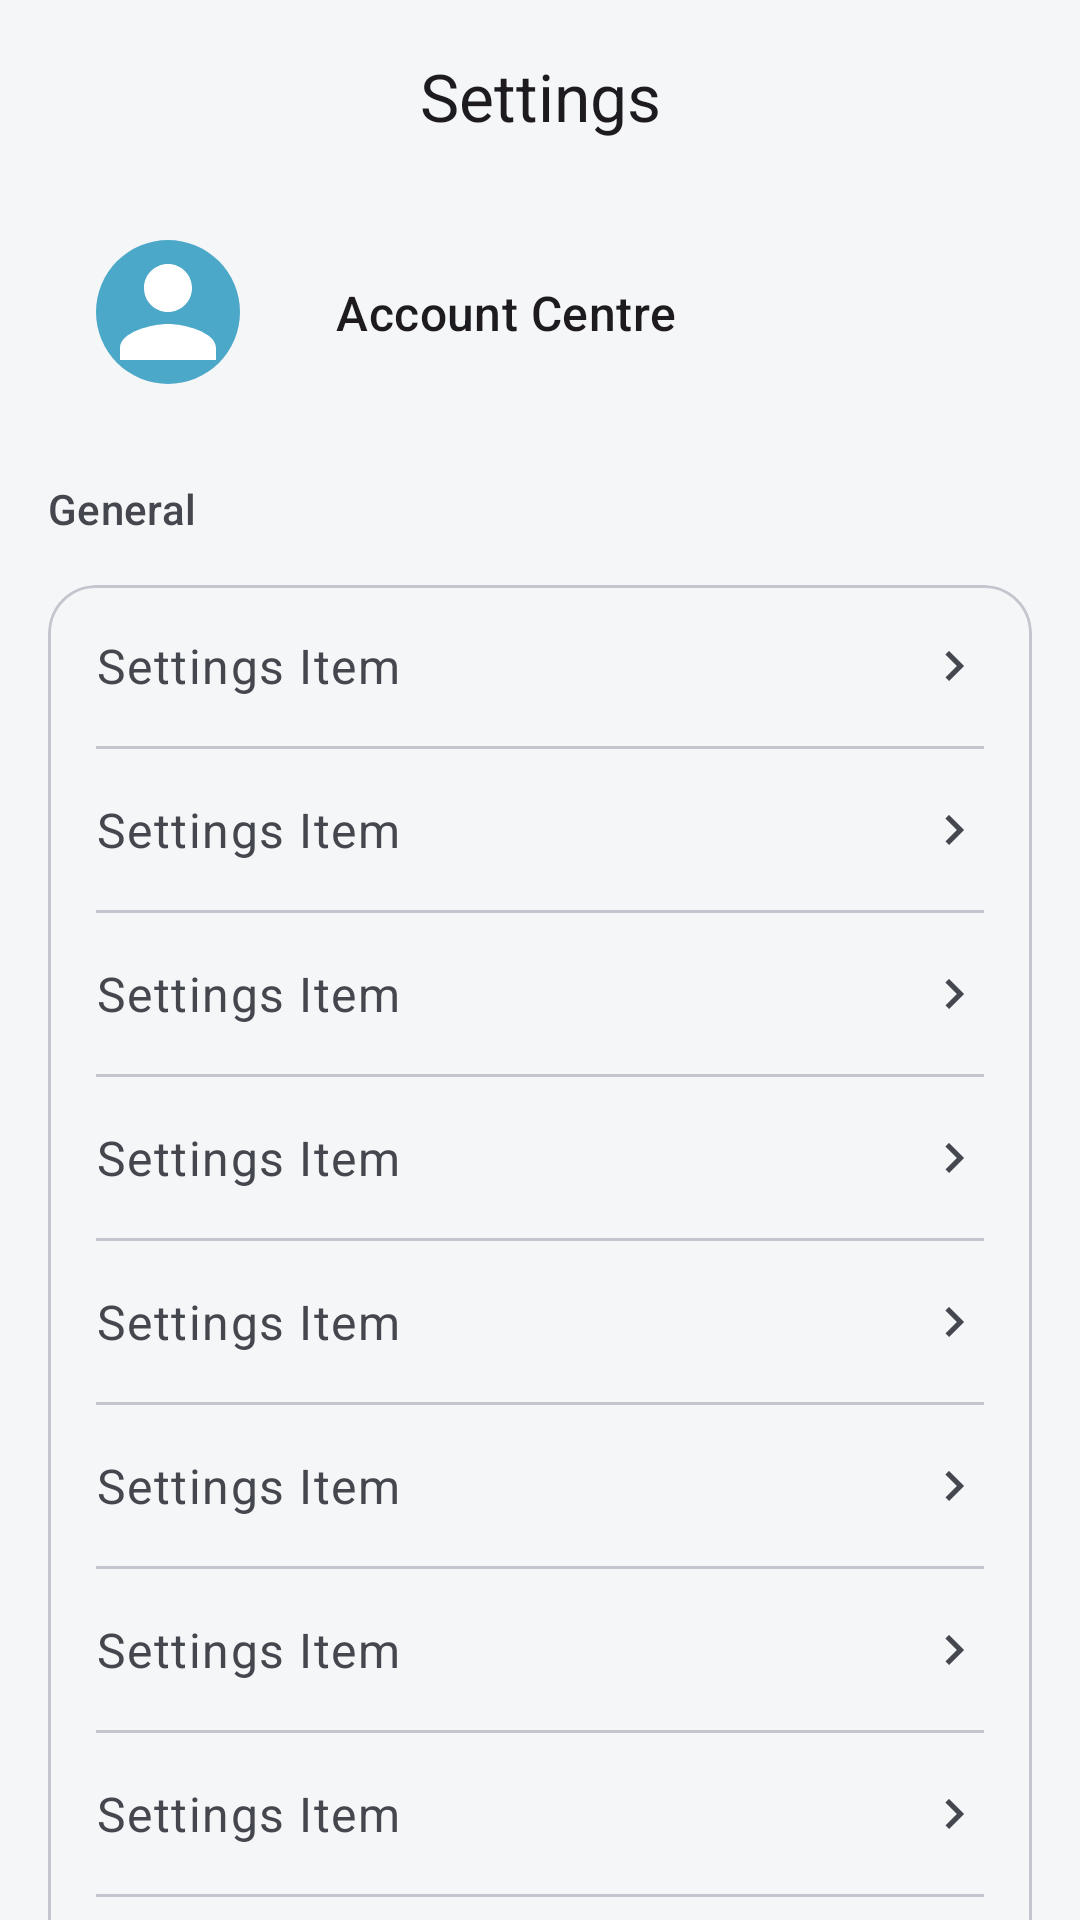

Named icons in this screenshot (1080px x 1920px) and their centers, (x=x, y=y):
arrow right: (x=954, y=666), (x=954, y=830), (x=954, y=994), (x=954, y=1158), (x=954, y=1322), (x=954, y=1486), (x=954, y=1650), (x=954, y=1814)
profile: (x=168, y=312)
